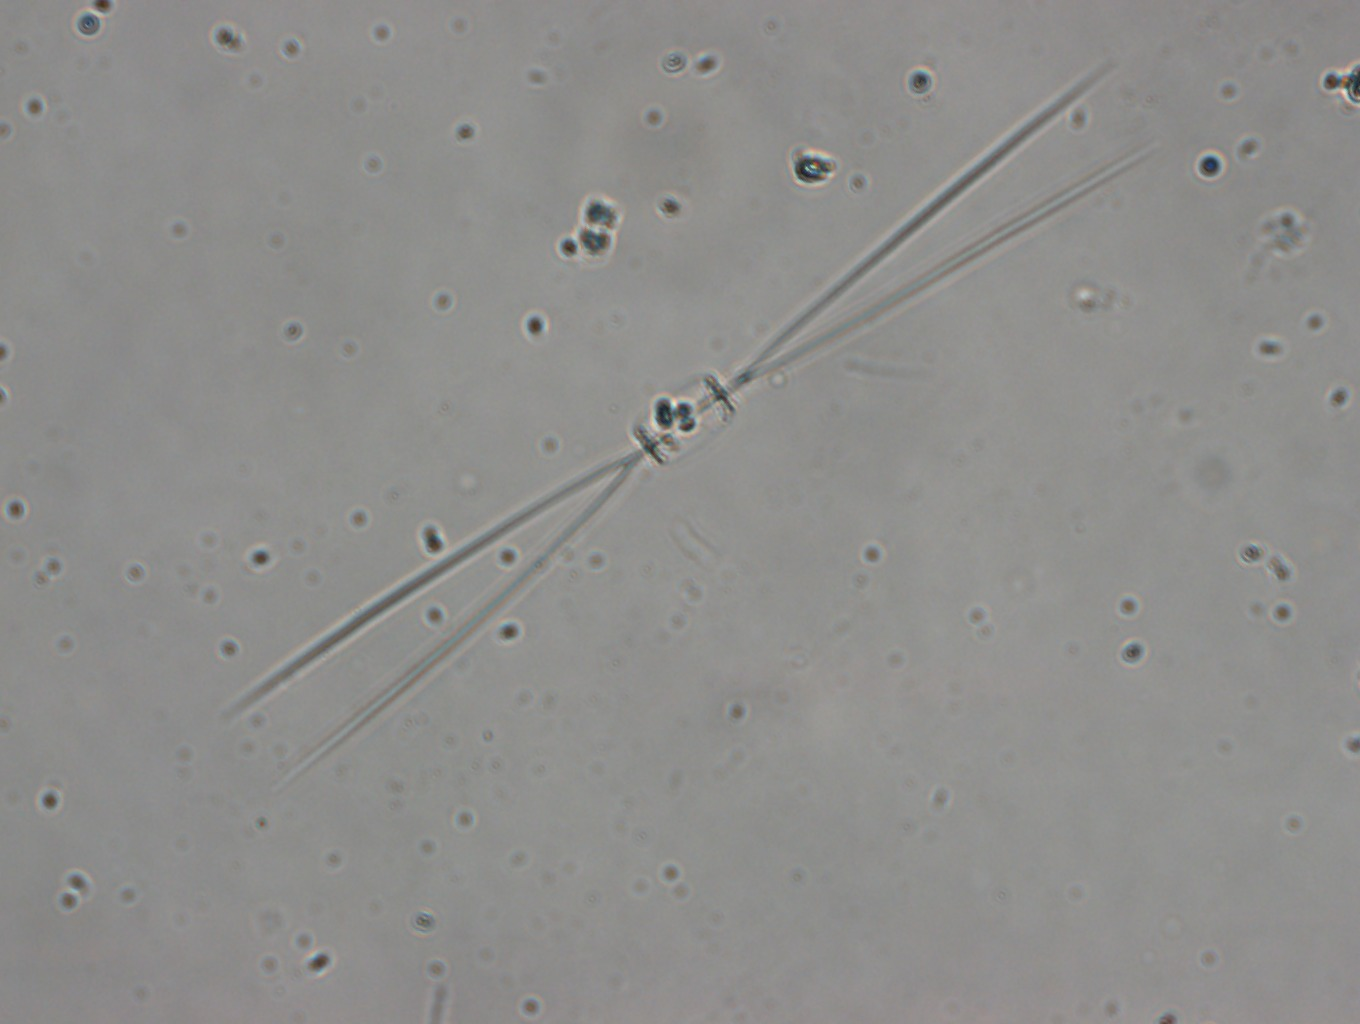chaetoceros: (218, 56, 1158, 793)
